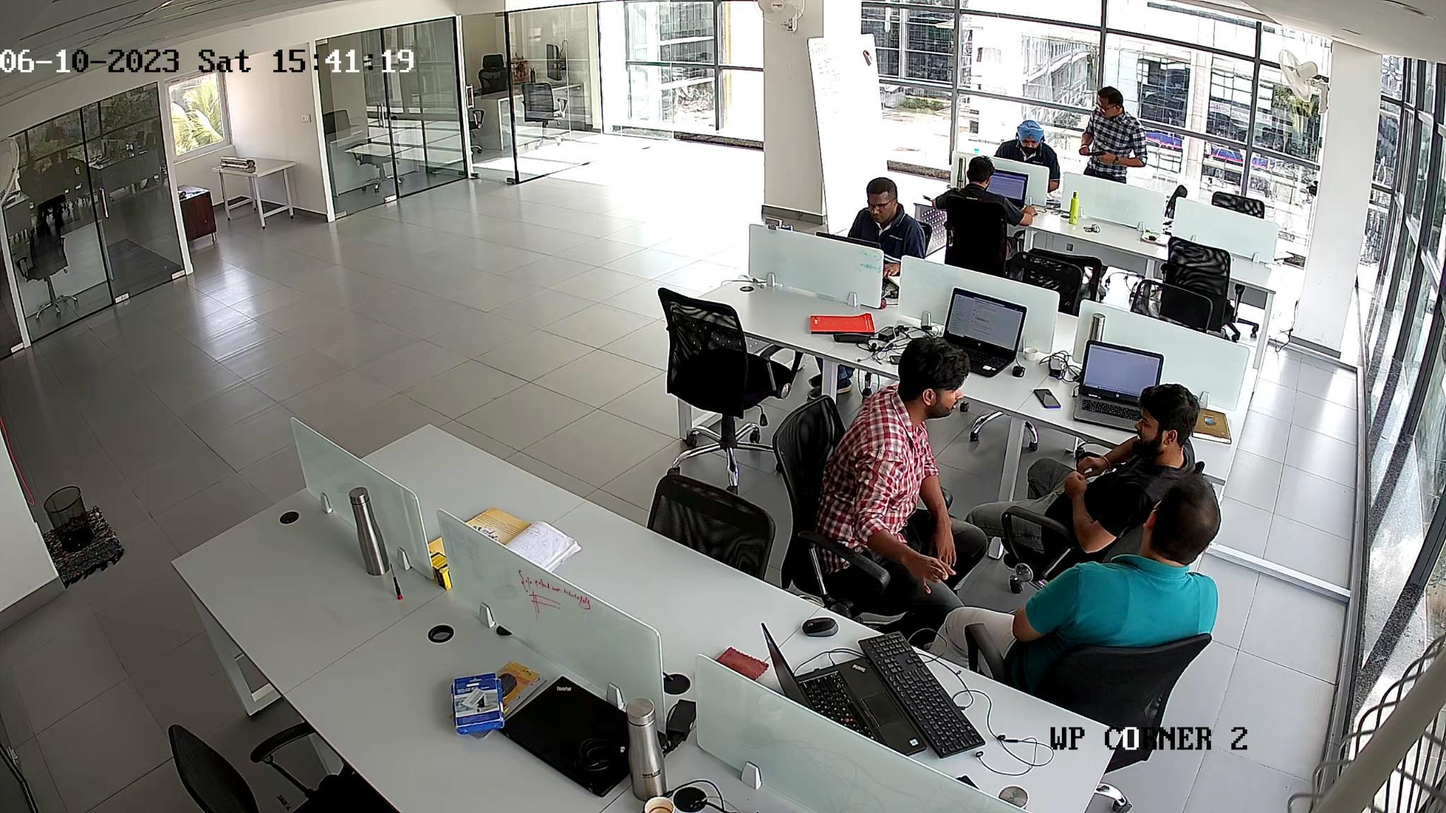gun: (1086, 150, 1107, 163)
